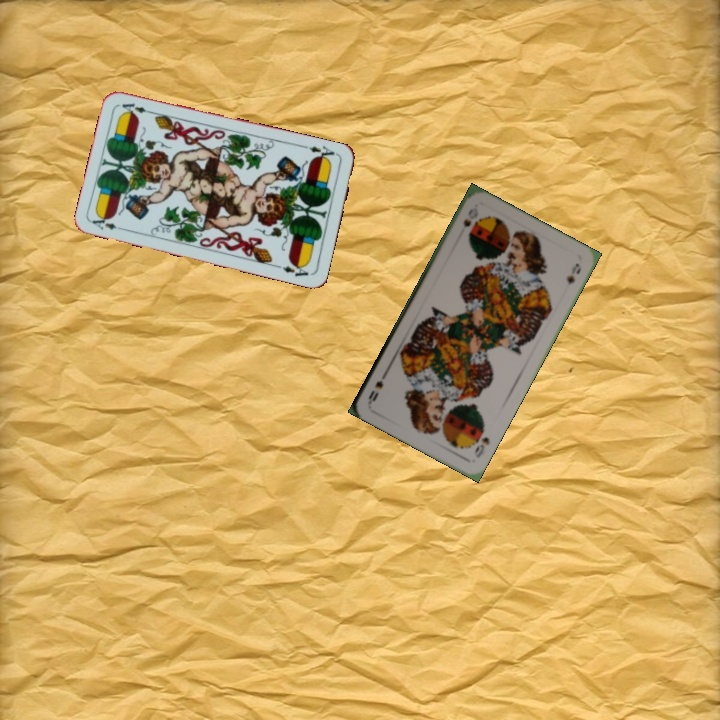EA: (300, 141, 340, 164), (88, 212, 128, 233)
SO: (470, 425, 492, 460), (459, 203, 481, 230)
